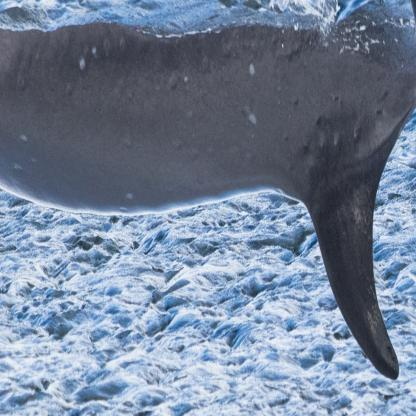dolphin-whale: (2, 15, 415, 378)
